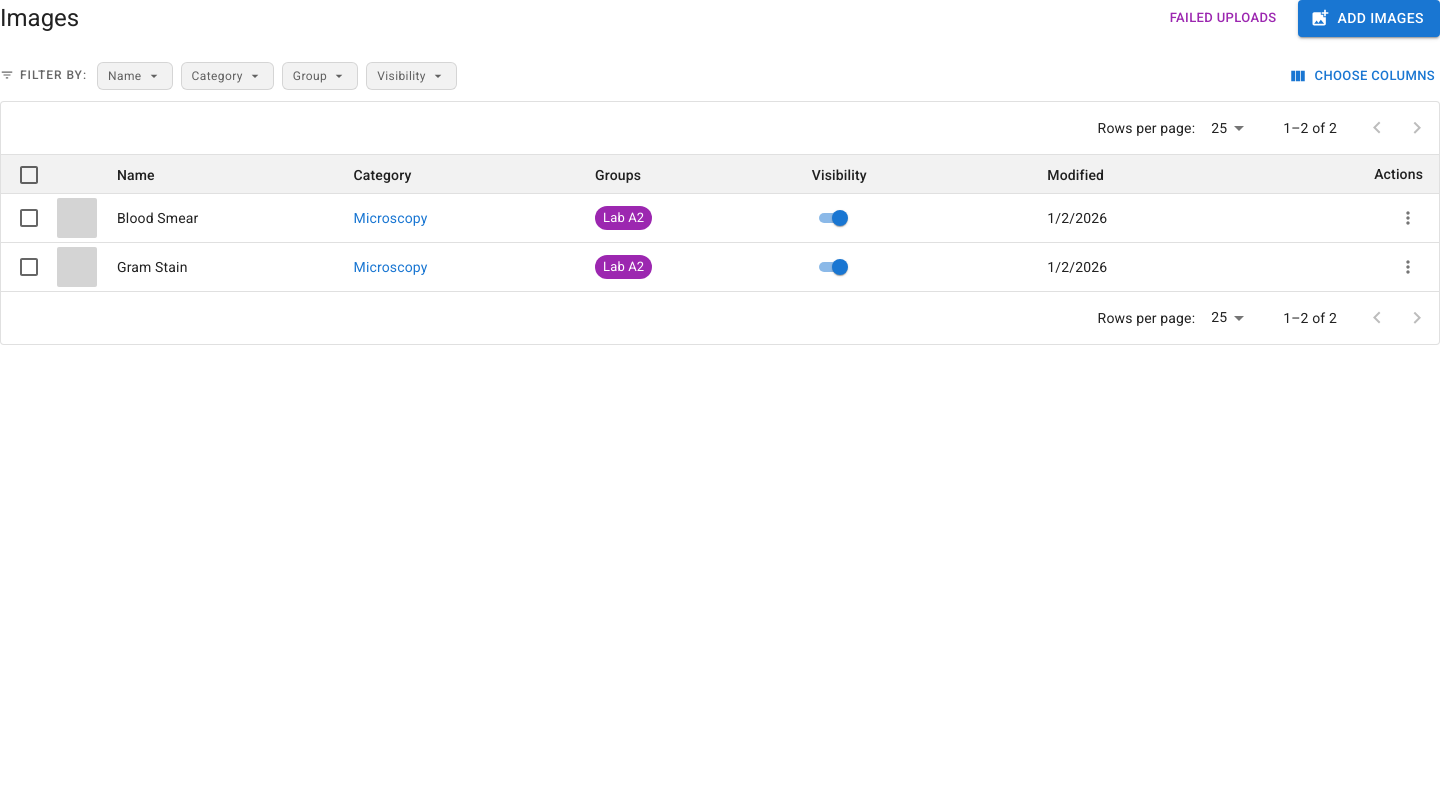
Test: ManagePage › lists collection memberships in an opt-in column with a matching filter
Expected: the text "Blood Smear" is shown, [101,193,338,242]
Expected: the column heading "Collections" is not shown
What coordinates should you click on to do the following:
click the button "Choose columns"
I would click on:
 (1363, 76)
Its box is [1286,60,1439,91].
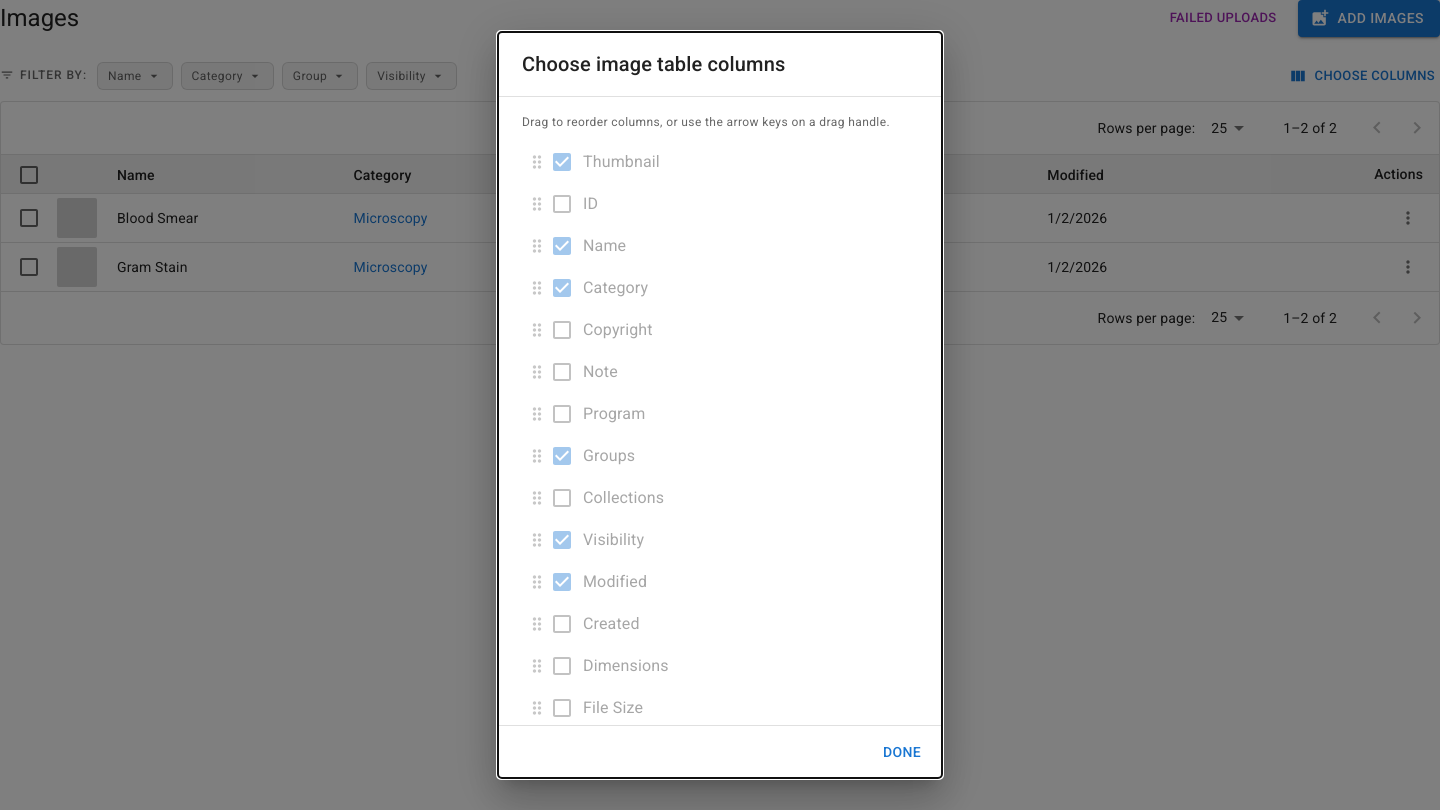
What coordinates should you click on to do the following:
click the 4th checkbox labelled "Collections"
I would click on:
 (607, 498)
Its box is [550,486,664,510].
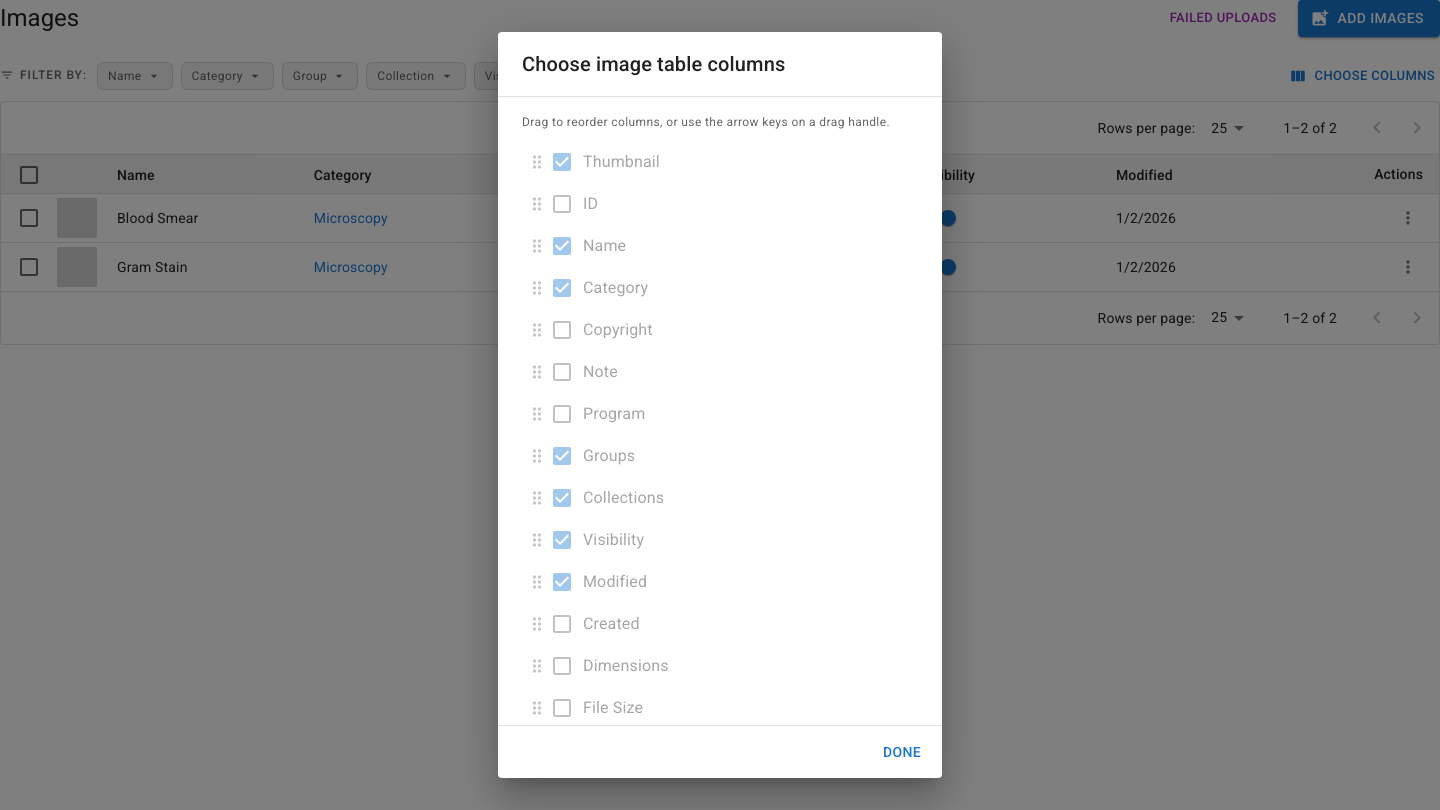
What coordinates should you click on to do the following:
click the button "Done"
I would click on:
 (902, 752)
Its box is [870,734,934,770].
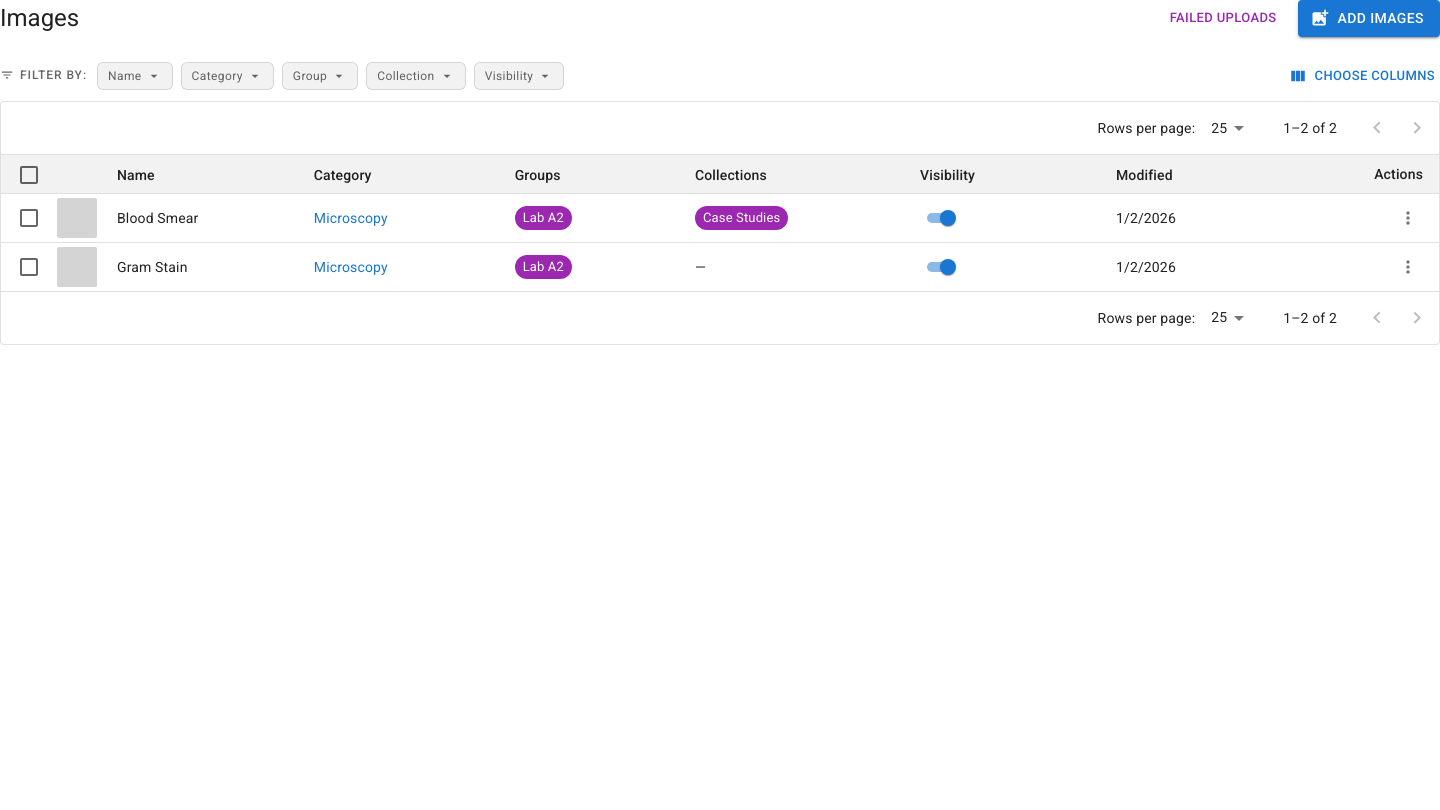
Expected: the column heading "Collections" is shown, [679,155,904,193]
Expected: the button with test id "collection-chip" reads "Case Studies", [695,206,788,230]
Note: The Collection facet appears only while the column is visible.
What coordinates should you click on to do the following:
click the button "Collection"
I would click on:
 (416, 76)
Its box is [366,62,466,90].
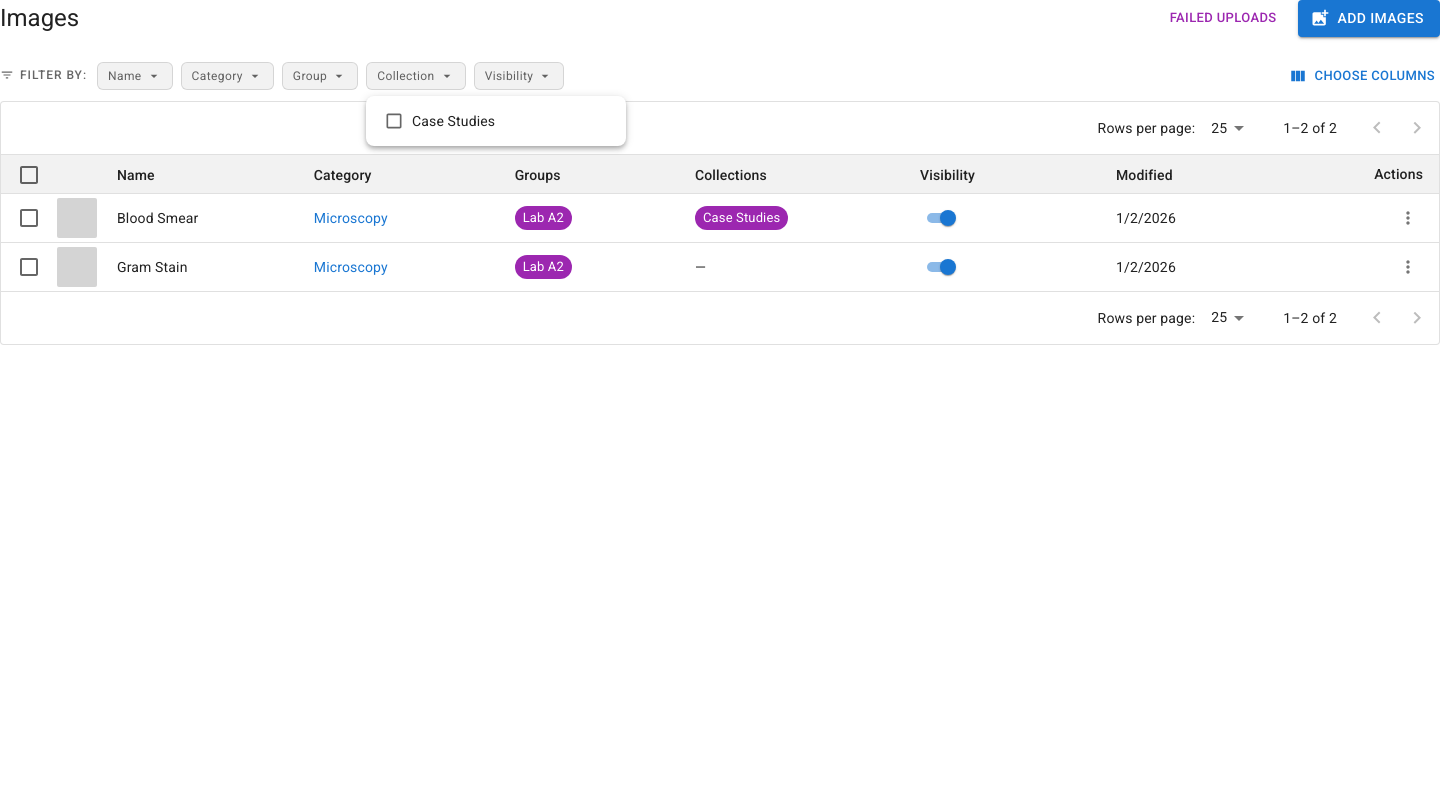
What coordinates should you click on to do the following:
click the menu item "Case Studies"
I would click on:
 (440, 121)
Its box is [384,111,495,131].
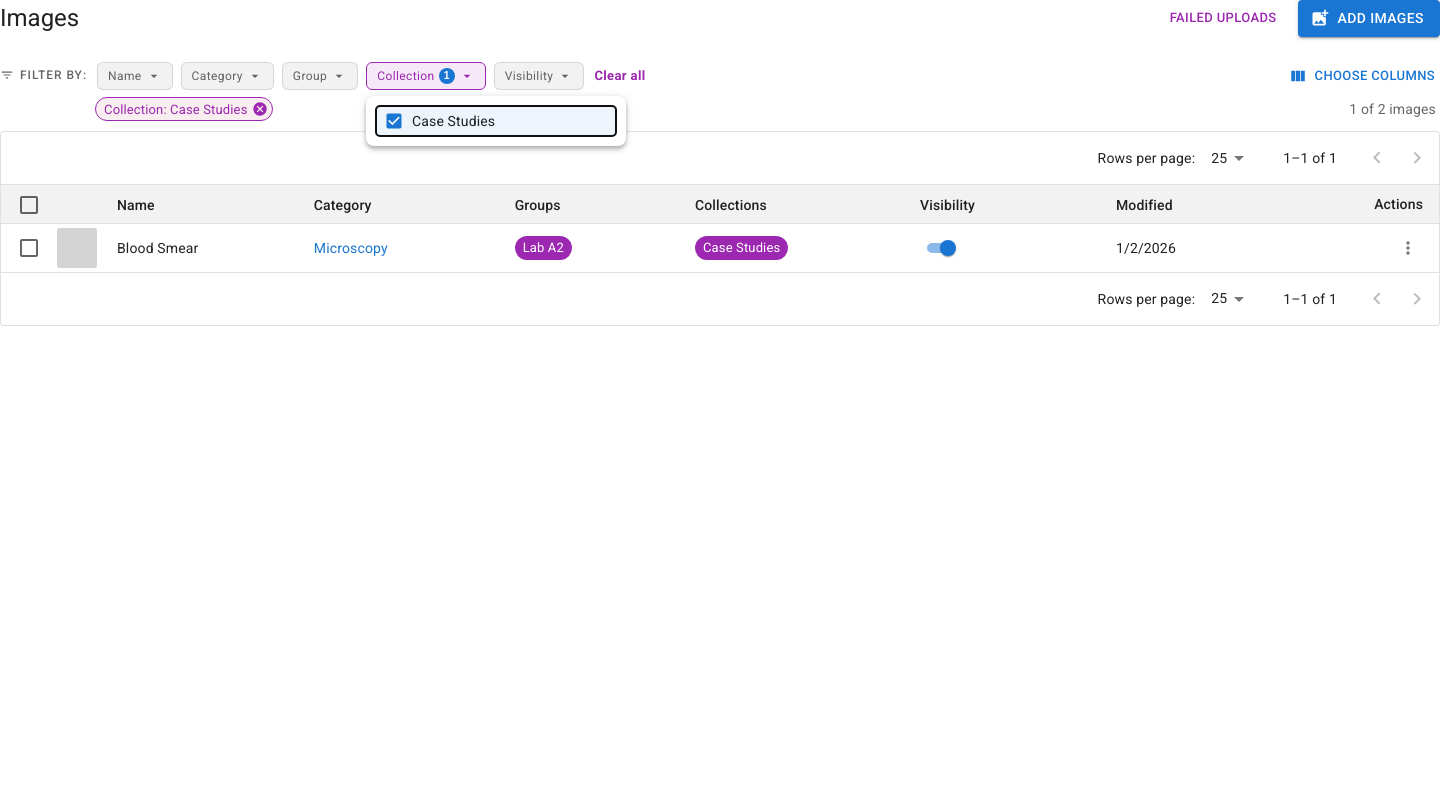
Expected: the text "Blood Smear" is shown, [101,223,298,272]
Expected: the text "Collection: Case Studies" is shown, [96,100,256,119]
Expected: the text "Gram Stain" is gone
